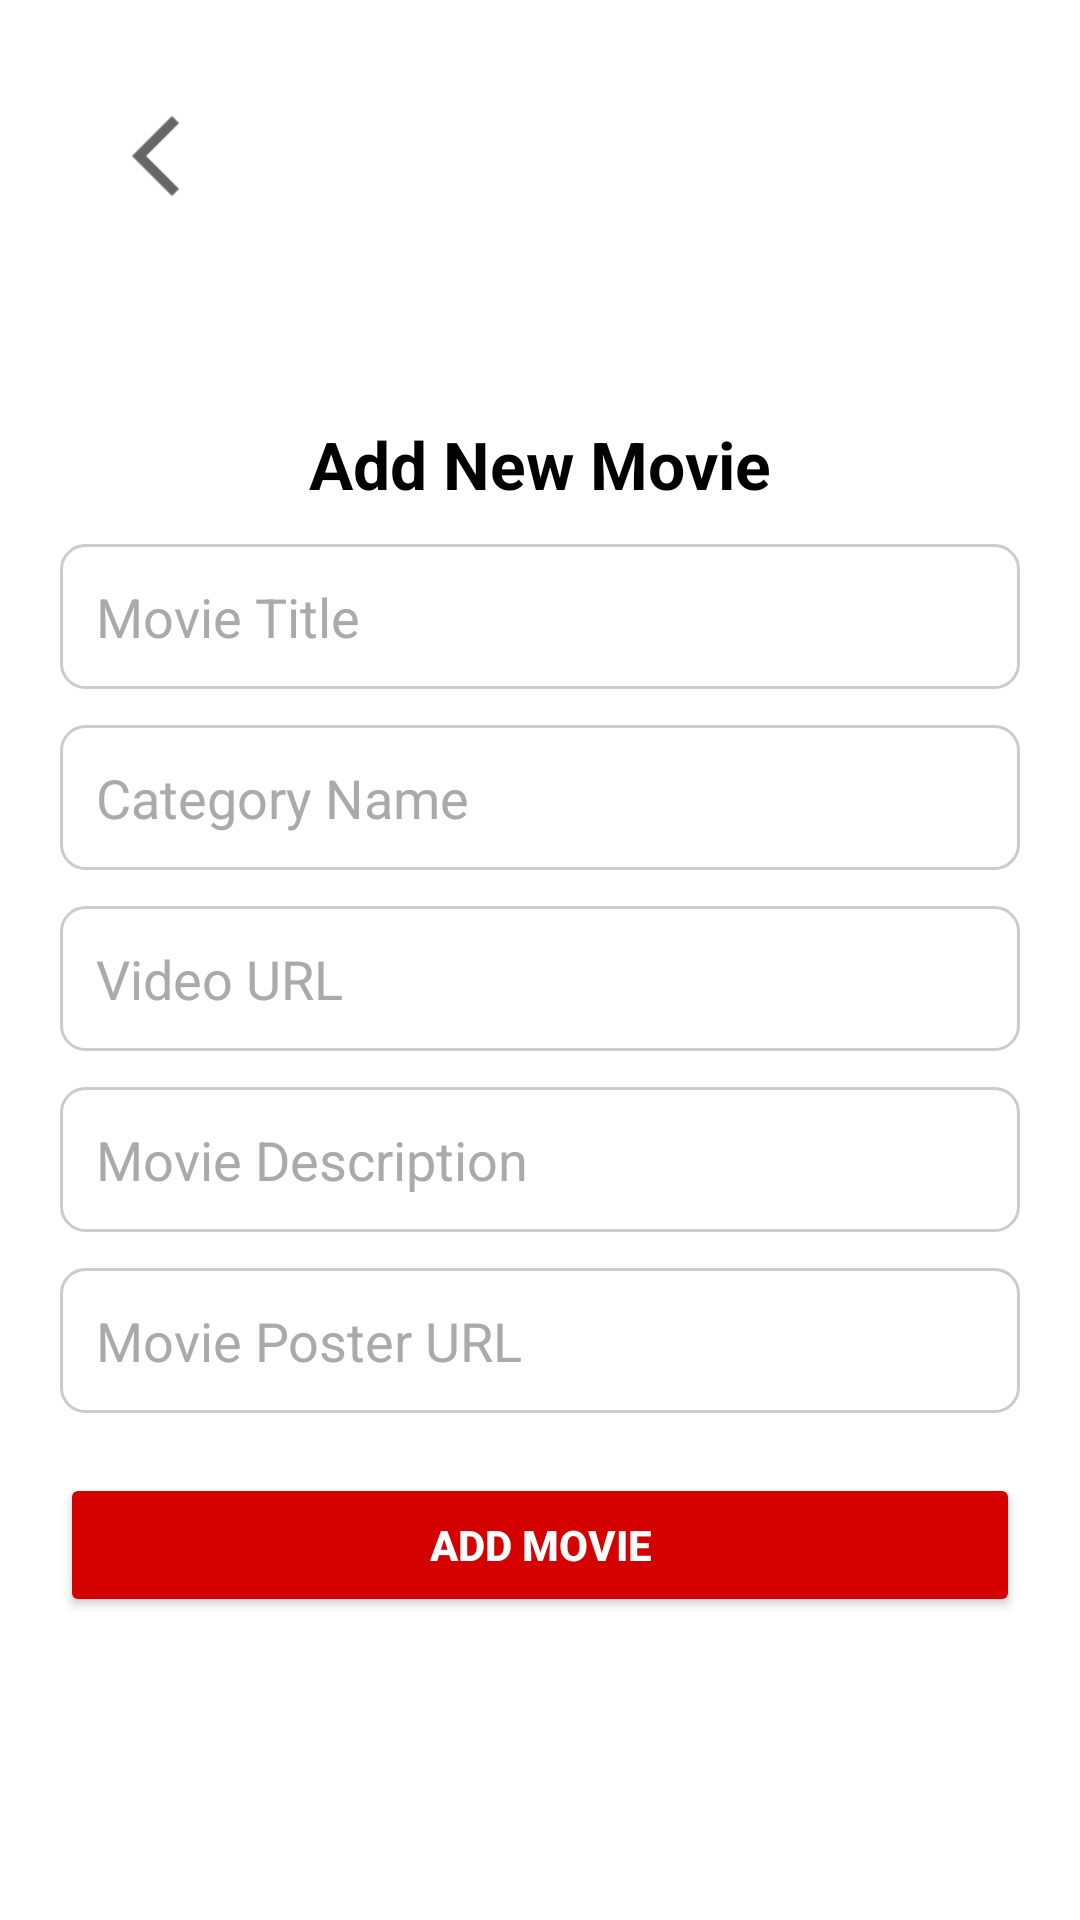

Icons on this 1080px x 1920px Android screen, each with its box as (x1, y1, x2, y2):
back: (132, 116, 179, 196)
